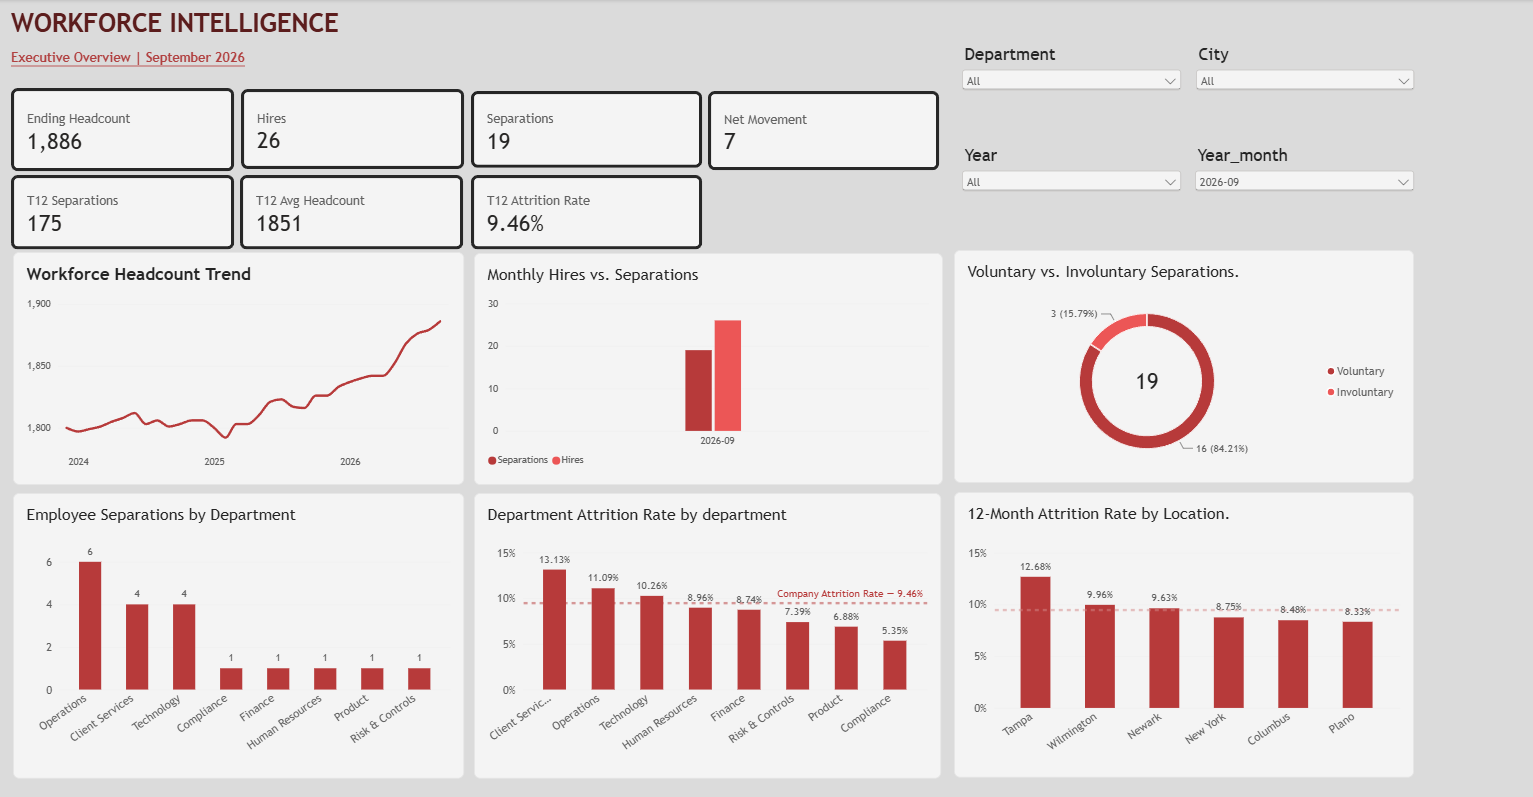

What the dashboard file says about the page in this screenshot:
{"tool":"powerbi","page":{"name":"Page 1","canvas":[1920,1900],"ordinal":0},"visuals":[{"type":"cardVisual","title":"Ending Headcount","fields":{"Data":["DimDepartment.Ending Headcount"]},"box":[15.4,117.3,279.8,104.8],"z":0},{"type":"cardVisual","fields":{"Data":["DimDepartment.Hires"]},"box":[302.9,118.3,279.8,101],"z":1000},{"type":"cardVisual","fields":{"Data":["FactEvents.Separations"]},"box":[590.4,121.2,289.4,96.2],"z":2000},{"type":"cardVisual","fields":{"Data":["FactEvents.Net Movement"]},"box":[885.9,121.1,289.4,99],"z":3000},{"type":"cardVisual","fields":{"Data":["FactEvents.T12 Separations"]},"box":[15.4,226,279.8,93.3],"z":4000},{"type":"cardVisual","fields":{"Data":["FactSnapshot.T12 Avg Headcount"]},"box":[301.6,226.2,279.8,93.3],"z":5000},{"type":"cardVisual","fields":{"Data":["FactEvents.T12 Attrition Rate"]},"box":[590.4,226,289.4,93.3],"z":6000},{"type":"textbox","box":[15.4,17.3,576,92.3],"z":7000},{"type":"lineChart","title":"Workforce Headcount Trend","fields":{"Category":["TrendMonths.month_start.Variation.Date Hierarchy.Year","TrendMonths.month_start.Variation.Date Hierarchy.Quarter","TrendMonths.month_start.Variation.Date Hierarchy.Month","TrendMonths.month_start.Variation.Date Hierarchy.Day"],"Y":["DimDepartment.Ending Headcount"]},"box":[17.5,322.7,563.9,290.7],"z":8000},{"type":"clusteredColumnChart","title":"Monthly Hires vs. Separations","fields":{"Category":["DimMonth.year_month"],"Y":["FactEvents.Separations","DimDepartment.Hires"]},"box":[593.9,323.2,585.6,290.4],"z":9000},{"type":"clusteredColumnChart","title":"Employee Separations by Department","fields":{"Category":["DimDepartment.department"],"Y":["FactEvents.Separations"]},"box":[17.5,623.7,563.9,356.7],"z":10000},{"type":"clusteredColumnChart","fields":{"Category":["DimDepartment.department"],"Y":["DimDepartment.Department Attrition Rate"]},"box":[593.8,623.7,583.5,356.7],"z":11000},{"type":"clusteredColumnChart","title":"12-Month Attrition Rate by Location.","fields":{"Category":["DimLocation.city"],"Y":["DimDepartment.Department Attrition Rate"]},"box":[1194,622.4,575.4,356.9],"z":11001},{"type":"donutChart","title":"Voluntary vs. Involuntary Separations.","fields":{"Category":["FactEvents.separation_type"],"Y":["FactEvents.Separations"]},"box":[1194,320.1,575.4,290.8],"z":11002},{"type":"slicer","title":"Employee Engagement by Department","fields":{"Values":["DimDepartment.department"]},"box":[1198.5,62.7,283.6,117.9],"z":11003},{"type":"slicer","fields":{"Values":["DimLocation.city"]},"box":[1490.8,63.1,283.1,116.9],"z":11004},{"type":"slicer","fields":{"Values":["DimMonth.year"]},"box":[1198.4,189.1,283.6,114.1],"z":11005},{"type":"slicer","fields":{"Values":["DimMonth.year_month"]},"box":[1489.8,189.1,283.6,116.4],"z":11006}]}

Visuals, with their boxes on the page's 1920x1900 design canvas (x1, y1, x2, y2). These are canvas units, not pixel positions in the 1533x797 screenshot, which may show the page scaled, cropped or inside an application window:
"Ending Headcount" cardVisual: (left=15, top=117, right=295, bottom=222)
cardVisual - DimDepartment.Hires: (left=303, top=118, right=583, bottom=219)
cardVisual - FactEvents.Separations: (left=590, top=121, right=880, bottom=217)
cardVisual - FactEvents.Net Movement: (left=886, top=121, right=1175, bottom=220)
cardVisual - FactEvents.T12 Separations: (left=15, top=226, right=295, bottom=319)
cardVisual - FactSnapshot.T12 Avg Headcount: (left=302, top=226, right=581, bottom=320)
cardVisual - FactEvents.T12 Attrition Rate: (left=590, top=226, right=880, bottom=319)
textbox: (left=15, top=17, right=591, bottom=110)
"Workforce Headcount Trend" lineChart: (left=18, top=323, right=581, bottom=613)
"Monthly Hires vs. Separations" clusteredColumnChart: (left=594, top=323, right=1180, bottom=614)
"Employee Separations by Department" clusteredColumnChart: (left=18, top=624, right=581, bottom=980)
clusteredColumnChart - DimDepartment.department x DimDepartment.Department Attrition Rate: (left=594, top=624, right=1177, bottom=980)
"12-Month Attrition Rate by Location." clusteredColumnChart: (left=1194, top=622, right=1769, bottom=979)
"Voluntary vs. Involuntary Separations." donutChart: (left=1194, top=320, right=1769, bottom=611)
"Employee Engagement by Department" slicer: (left=1198, top=63, right=1482, bottom=181)
slicer - DimLocation.city: (left=1491, top=63, right=1774, bottom=180)
slicer - DimMonth.year: (left=1198, top=189, right=1482, bottom=303)
slicer - DimMonth.year_month: (left=1490, top=189, right=1773, bottom=306)
